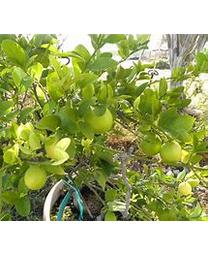lemon: (87, 108, 113, 132), (24, 165, 46, 190), (139, 133, 160, 156), (161, 142, 183, 162)
